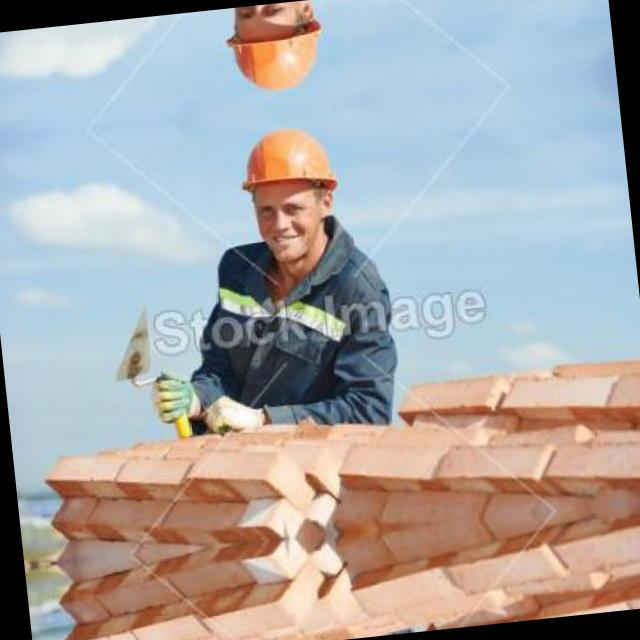helmet: (220, 104, 360, 282), (208, 0, 343, 115)
